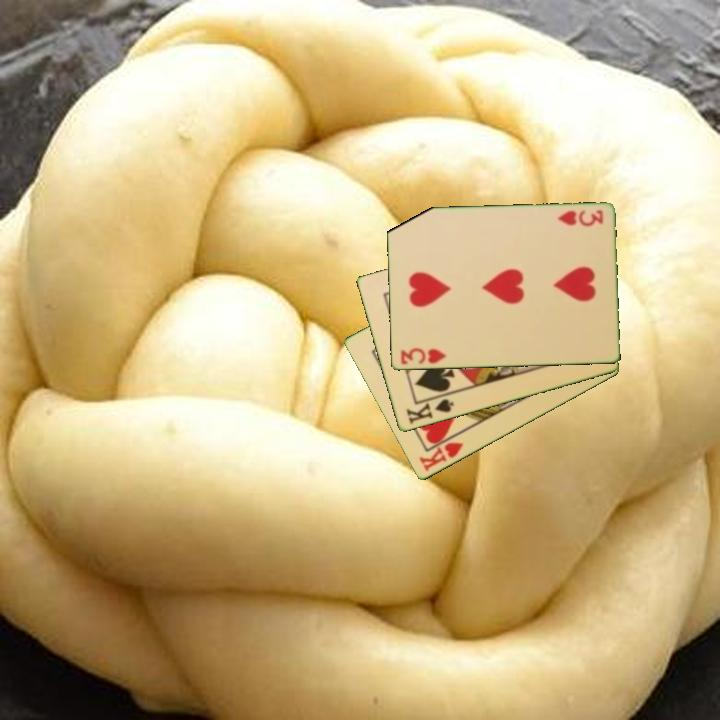3h: (397, 344, 449, 368), (554, 207, 606, 229)
Kh: (415, 430, 466, 475)
Ks: (402, 391, 456, 428)
